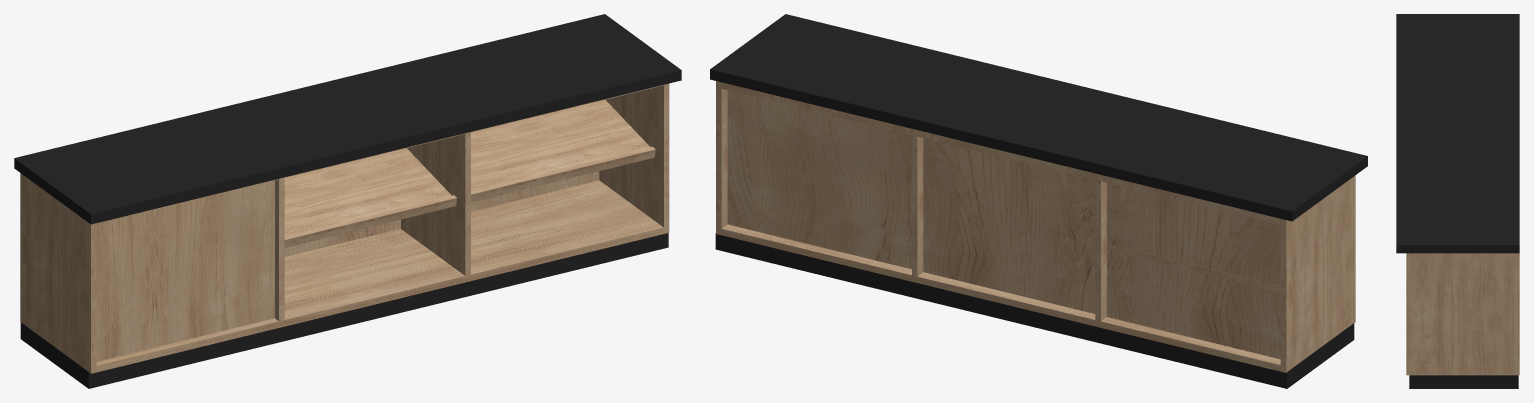
The model's file is Desk.fbx.
3 views of the same model, side by side, from view 1: azimuth 30°, elevation 25°; view 2: azimuth 150°, elevation 25°; view 3: azimuth 270°, elevation 25° (orthographic). The views are drawn at different scales.
Parts seen in each view (by area): view 1: desk; view 2: desk; view 3: desk.
Part boxes in pixels (left/top/right/bottom): desk: left=14, top=14, right=681, bottom=388; desk: left=710, top=14, right=1367, bottom=388; desk: left=1396, top=14, right=1519, bottom=388.
Bounding box in the file's own units: 317 × 93.2 × 71.27.
Materials: 2 (2 with a texture image).
